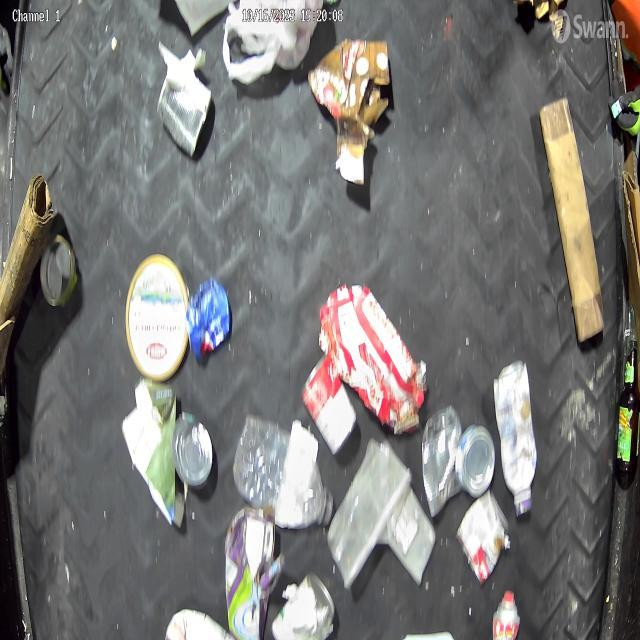can: (156, 56, 213, 160), (302, 354, 358, 458), (455, 488, 509, 590), (422, 402, 466, 521), (270, 569, 336, 640), (184, 274, 232, 363), (170, 410, 214, 490), (454, 421, 494, 500), (39, 232, 79, 310)
plastic_bottle: (232, 413, 335, 531)
